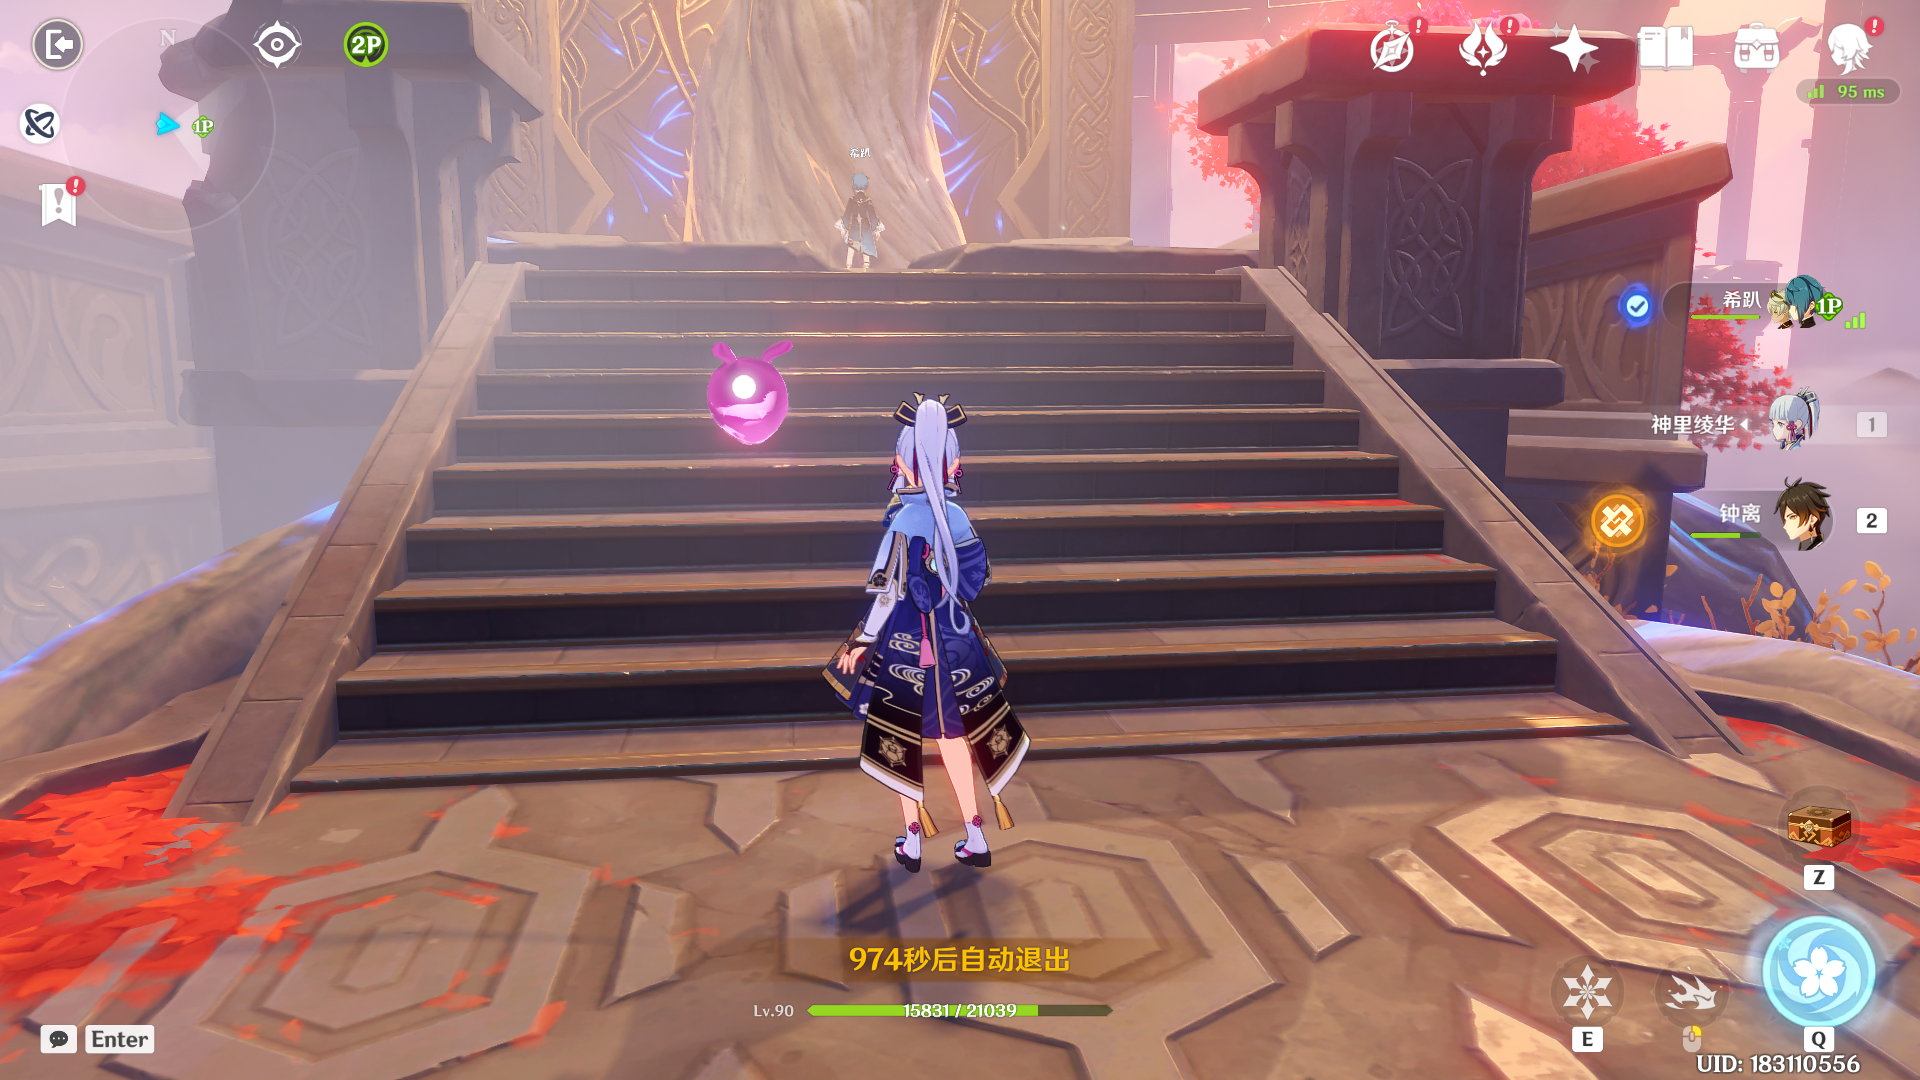character: (808, 371, 1065, 909), (823, 167, 913, 302)
